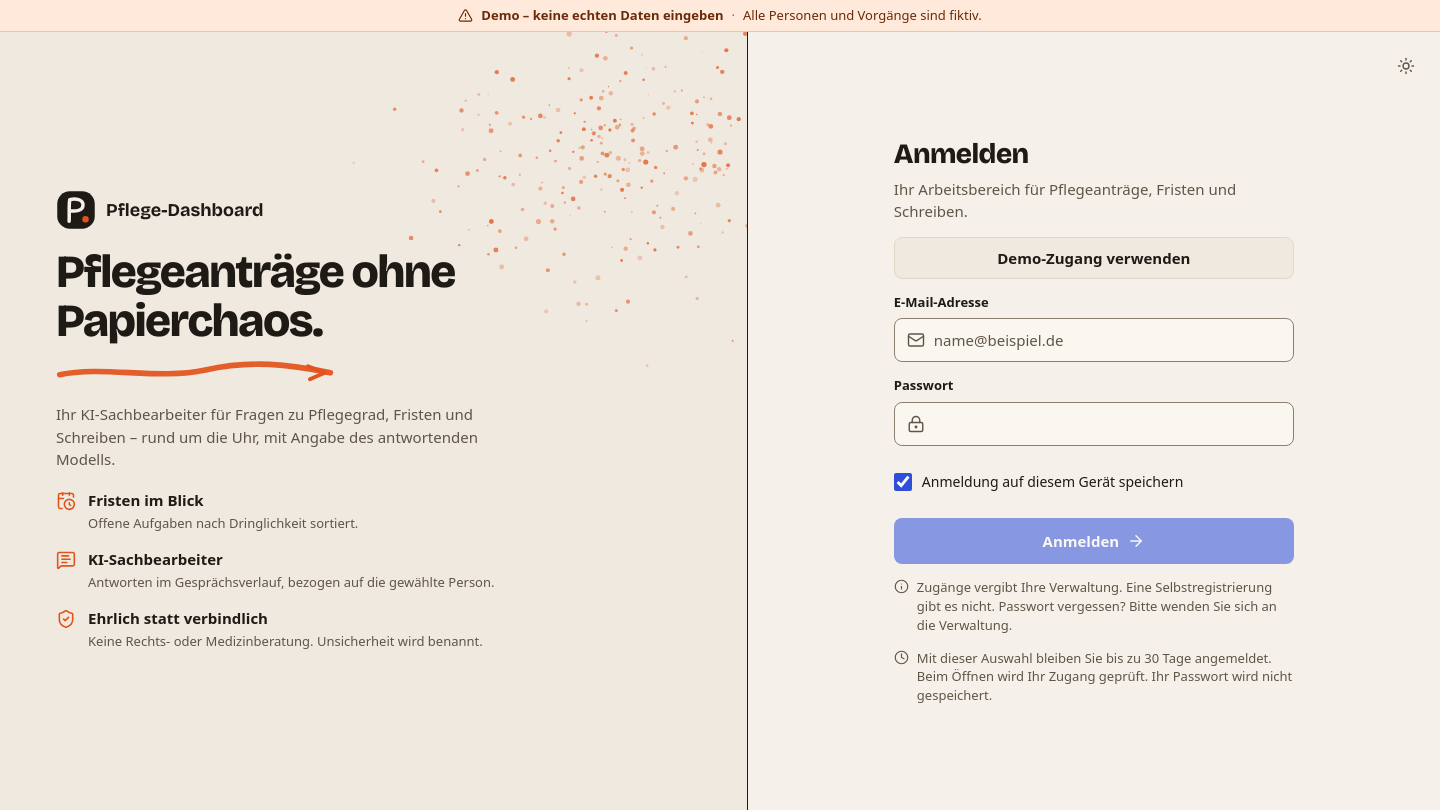
it: Anmeldung: Randfälle › unvollständige E-Mail-Adresse: kein Aufruf beim Auth-Server, Fokus im E-Mail-Feld
Type "name@beispiel" into the field labelled "E-Mail-Adresse" at (1107, 340), box [934,320,1281,362]
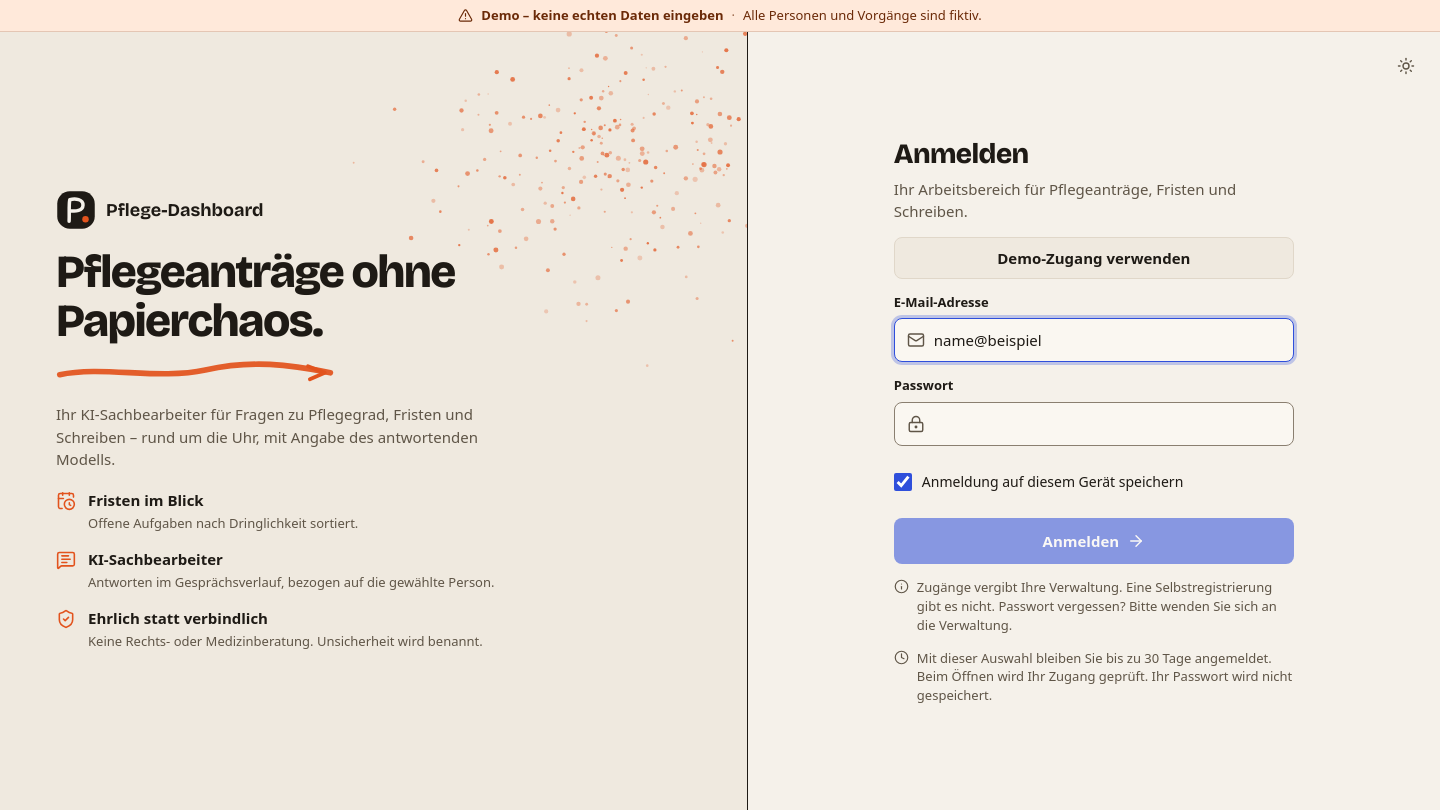
Type "irgendwas" into the password field labelled "Passwort" at (1107, 424), box [934,403,1281,445]
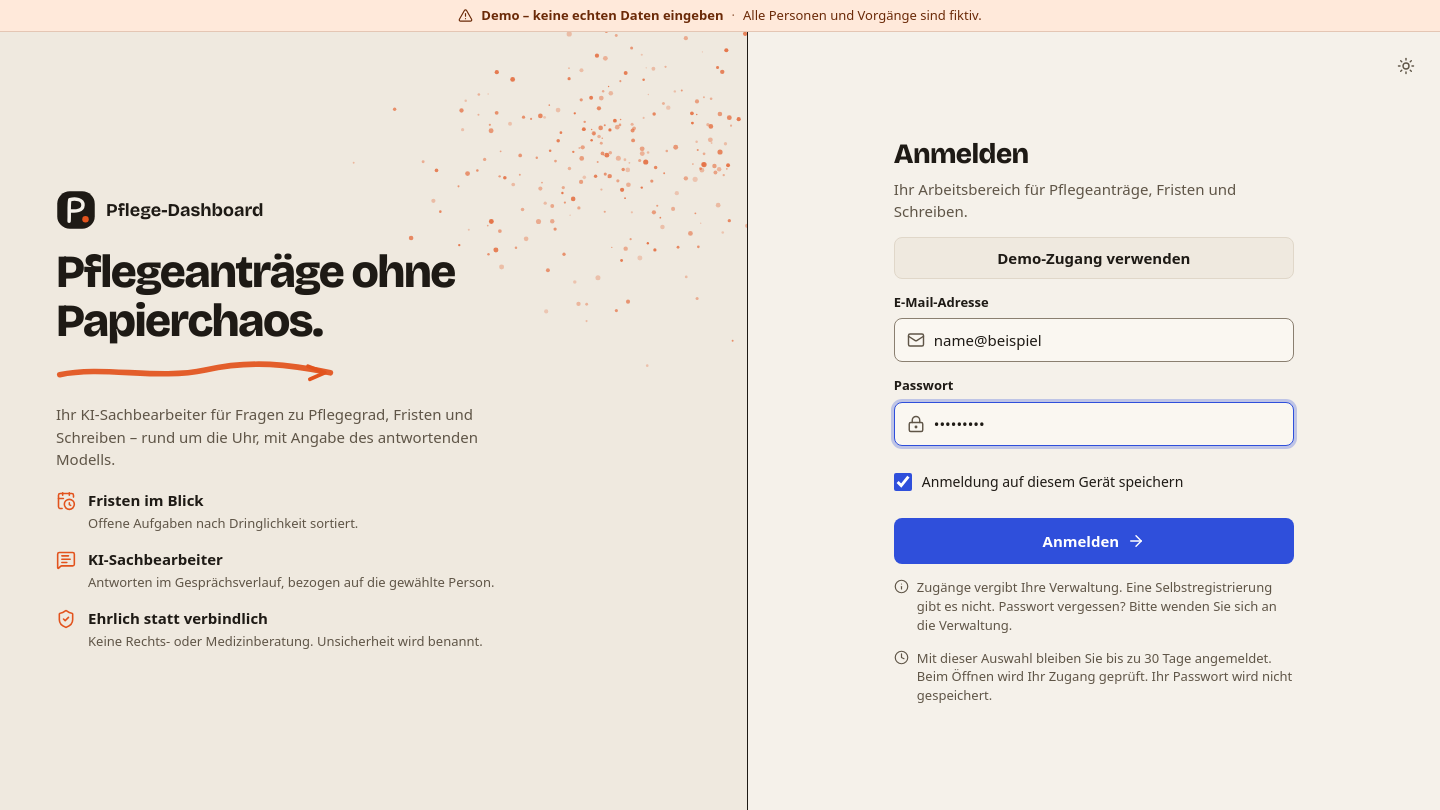
Click the button "Anmelden" at (1094, 541), box [894,518,1294,564]
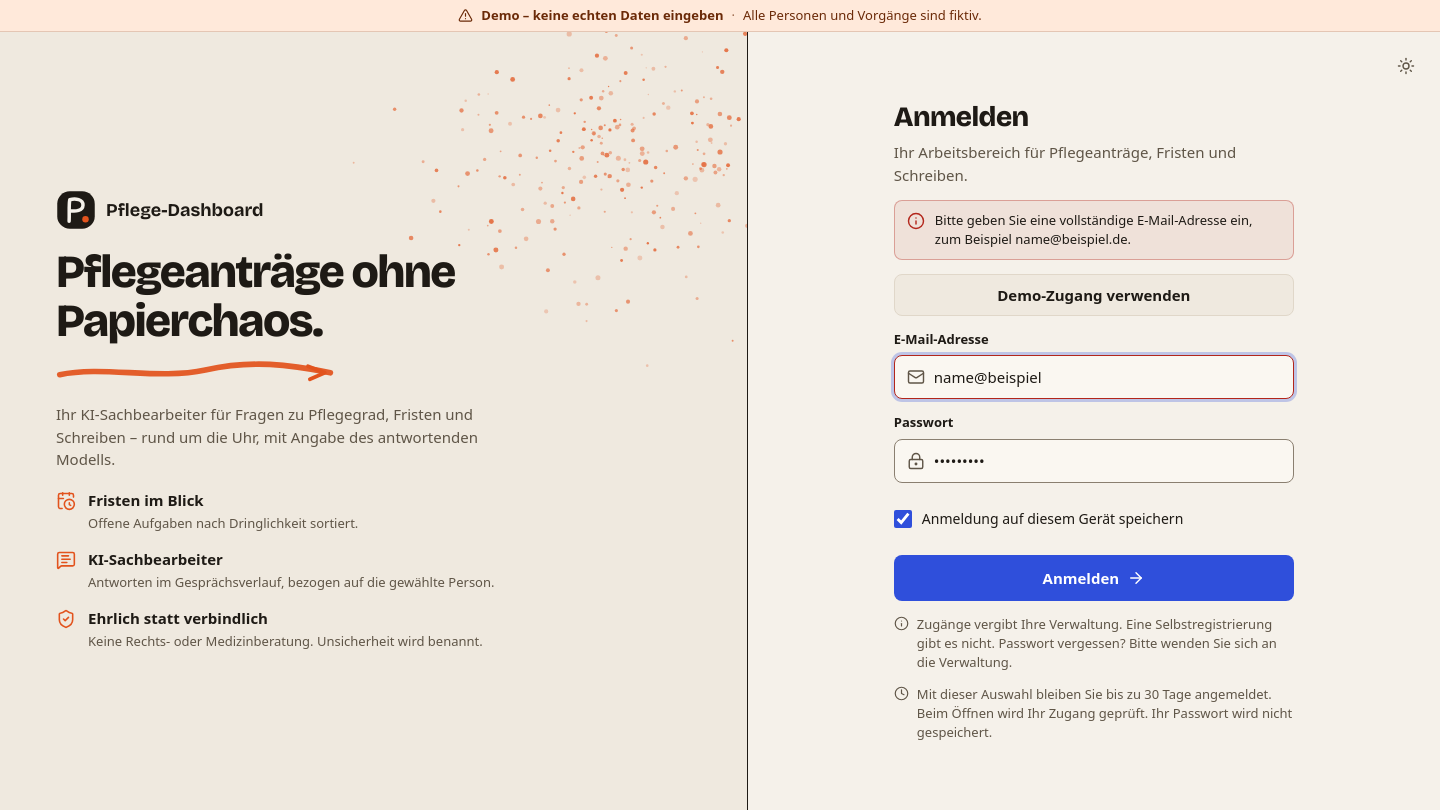
Expected: the message shows "vollständige E-Mail-Adresse", [935,211,1252,248]
